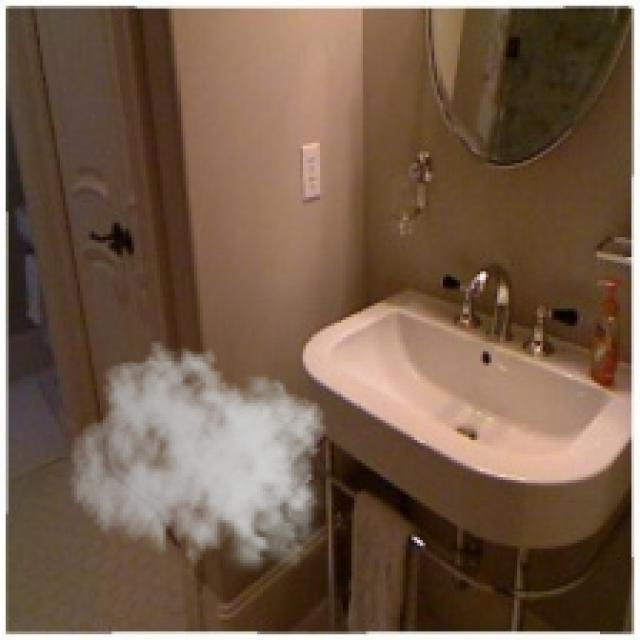Smoke: (68, 340, 334, 583)
